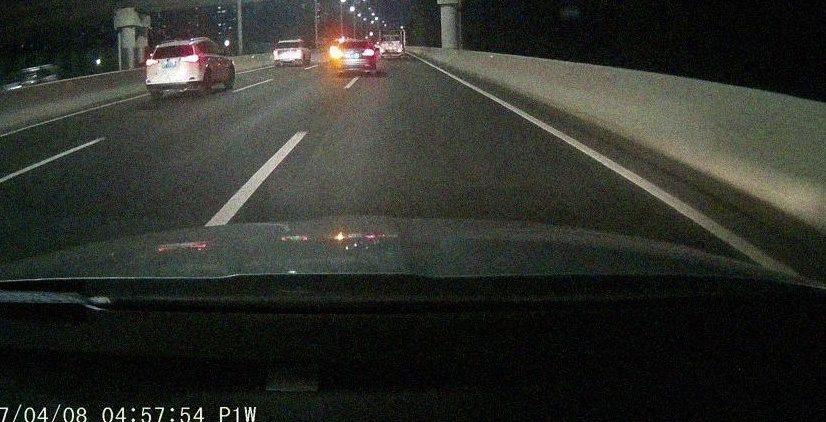L_light: (146, 58, 159, 66), (334, 51, 344, 58), (273, 50, 280, 55)
R_light: (181, 54, 199, 63), (362, 49, 374, 56), (295, 49, 302, 54)
T_light: (168, 45, 179, 47), (349, 41, 359, 43), (285, 42, 291, 44)
night-left: (333, 39, 376, 75)
night-no: (145, 39, 202, 97), (273, 40, 302, 67)
